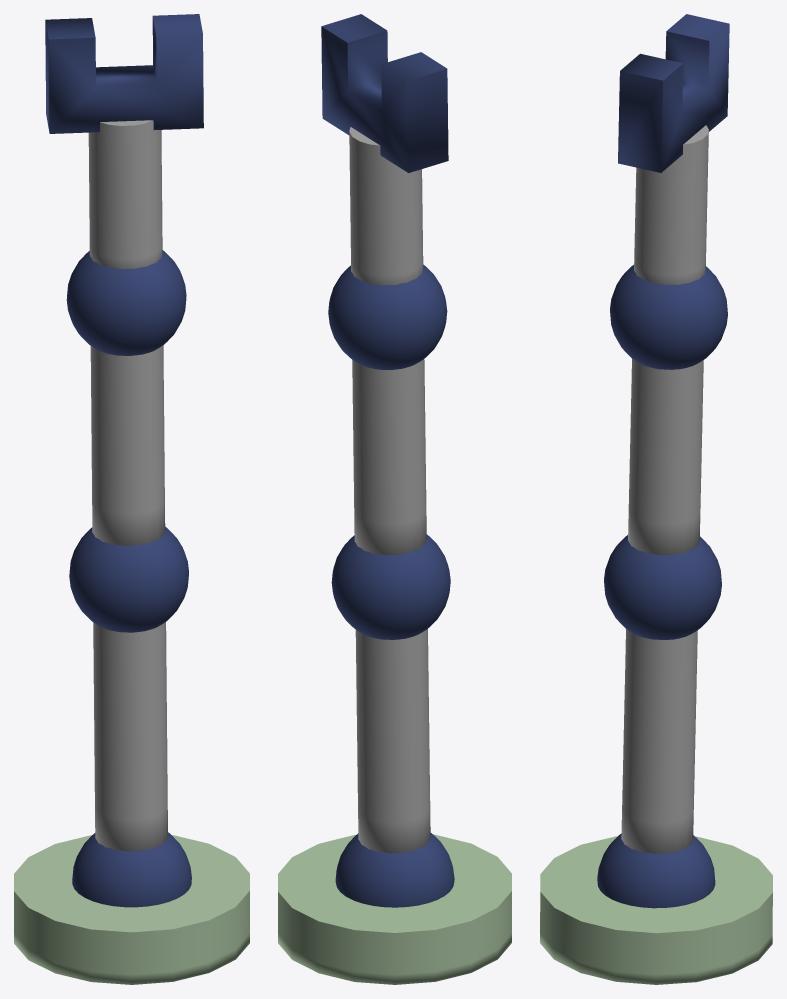
The model's file is arm02.DAE.
3 views of the same model, side by side, from view 1: azimuth 30°, elevation 25°; view 2: azimuth 150°, elevation 25°; view 3: azimuth 270°, elevation 25° (orthographic).
Parts seen in each view (by area): view 1: base, antebraco1, mao, antebraco2, antebraco3, pJuncao2, pJuncao3, pJuncao1; view 2: base, antebraco1, mao, antebraco2, antebraco3, pJuncao2, pJuncao3, pJuncao1; view 3: base, antebraco1, antebraco2, mao, pJuncao3, pJuncao2, antebraco3, pJuncao1.
Boxes of the visible parts, box(x1,y1,x2,y2) form: base: box(14, 835, 249, 984); antebraco1: box(93, 622, 167, 851); mao: box(45, 14, 203, 133); antebraco2: box(90, 345, 165, 545); antebraco3: box(88, 120, 162, 269); pJuncao2: box(69, 527, 188, 632); pJuncao3: box(66, 250, 186, 355); pJuncao1: box(72, 832, 191, 907); base: box(278, 834, 511, 984); antebraco1: box(355, 629, 430, 853); mao: box(321, 14, 448, 172); antebraco2: box(352, 359, 426, 555); antebraco3: box(349, 127, 423, 285); pJuncao2: box(331, 534, 450, 639); pJuncao3: box(328, 264, 447, 369); pJuncao1: box(335, 833, 454, 907); base: box(540, 836, 772, 984); antebraco1: box(621, 629, 697, 853); antebraco2: box(628, 358, 703, 555); mao: box(618, 14, 729, 172); pJuncao3: box(610, 265, 727, 369); pJuncao2: box(604, 535, 721, 639); antebraco3: box(634, 125, 708, 284); pJuncao1: box(597, 833, 715, 908).
Bounding box in the file's own units: 20.66 × 20.37 × 85.92.
